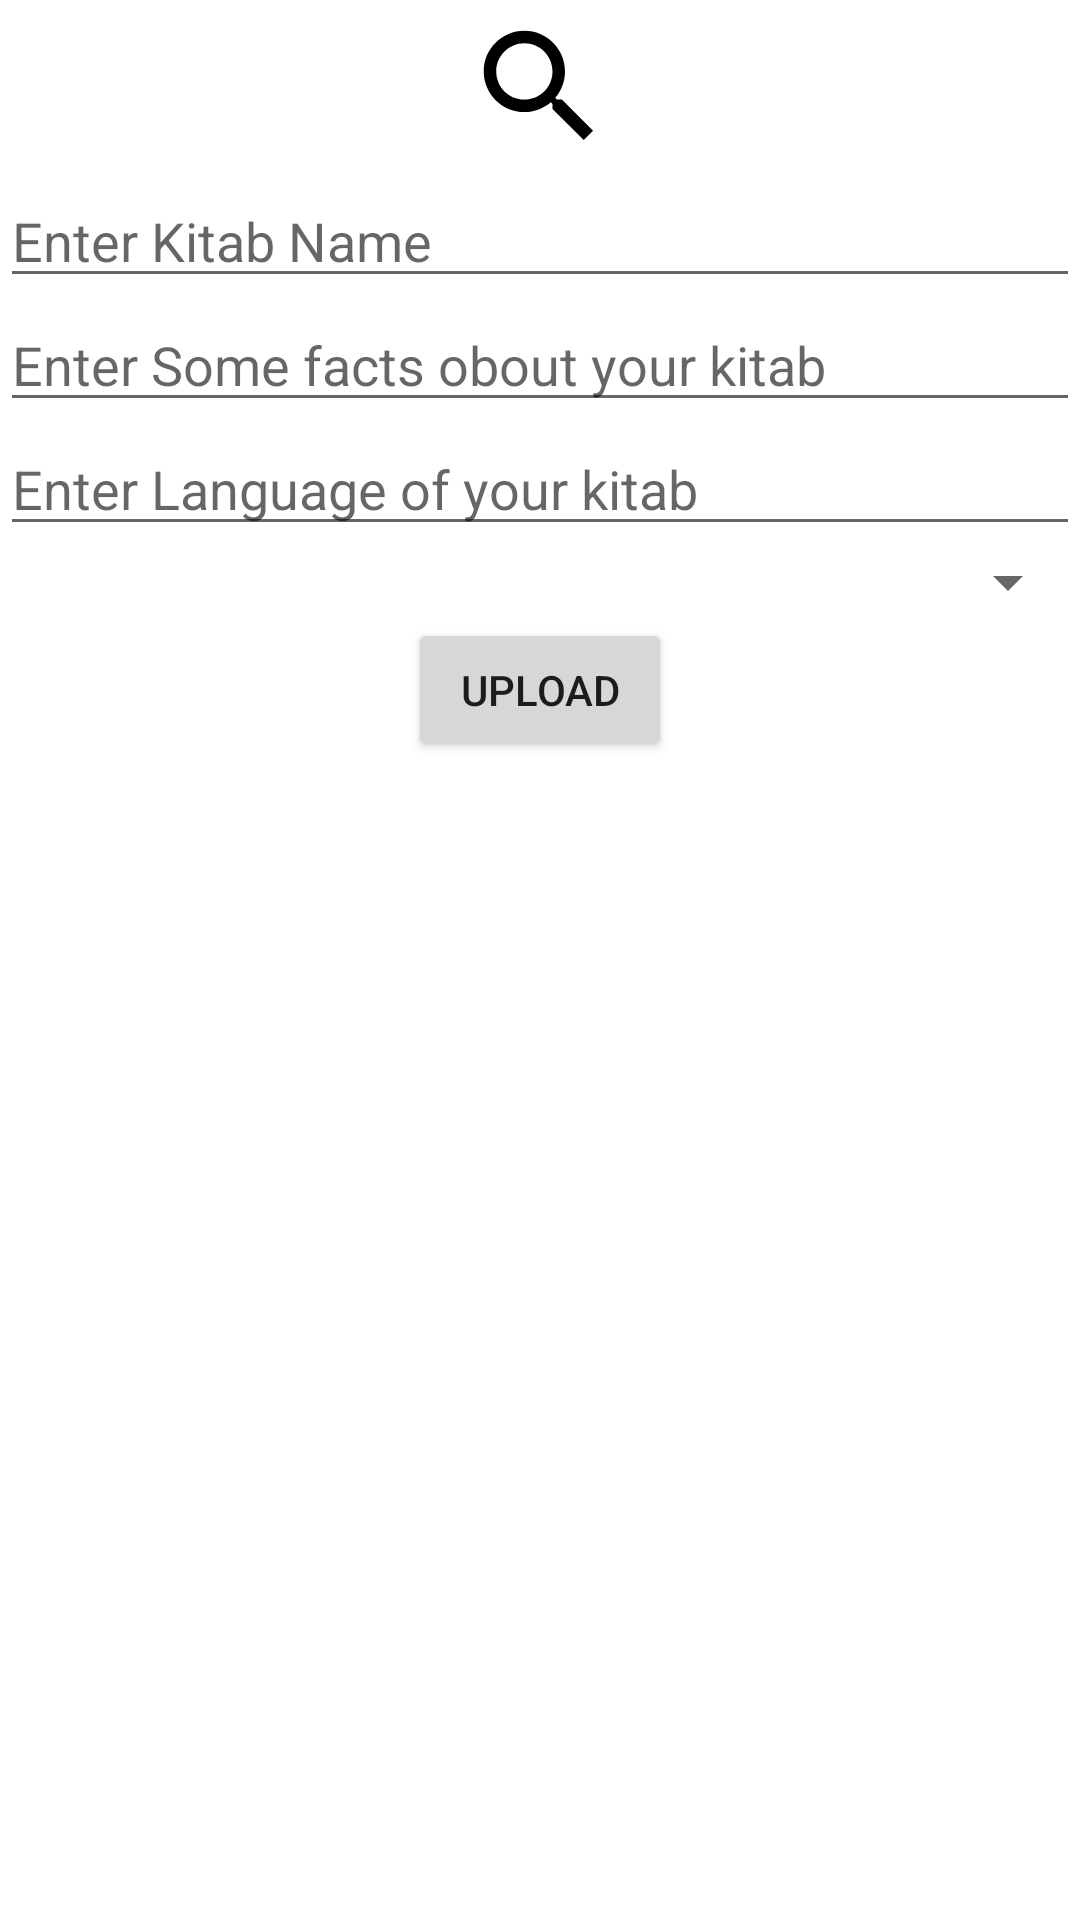

Icons on this 1080 x 1920 Android screen, each with its box as (x1, y1, x2, y2):
search: (483, 30, 593, 140)
